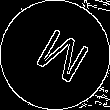M_SW: (22, 21, 88, 89)
